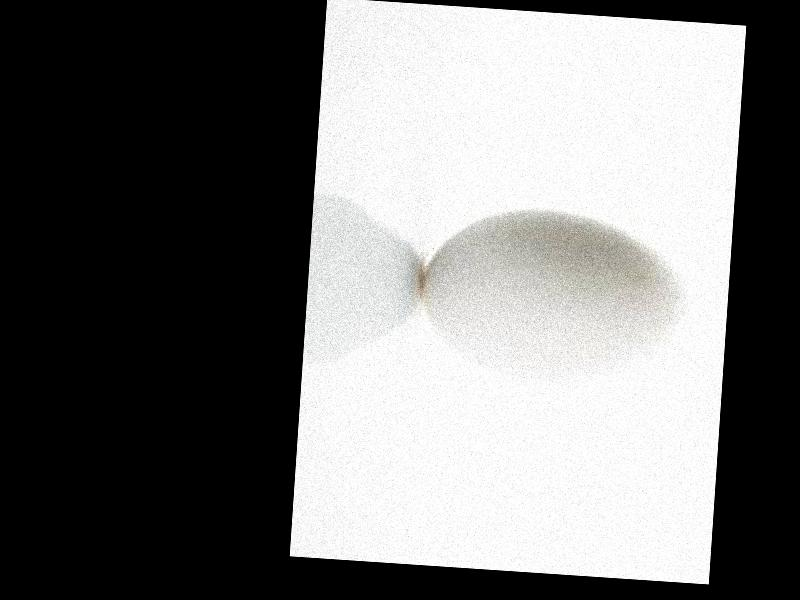Eggs: (417, 202, 691, 384)
